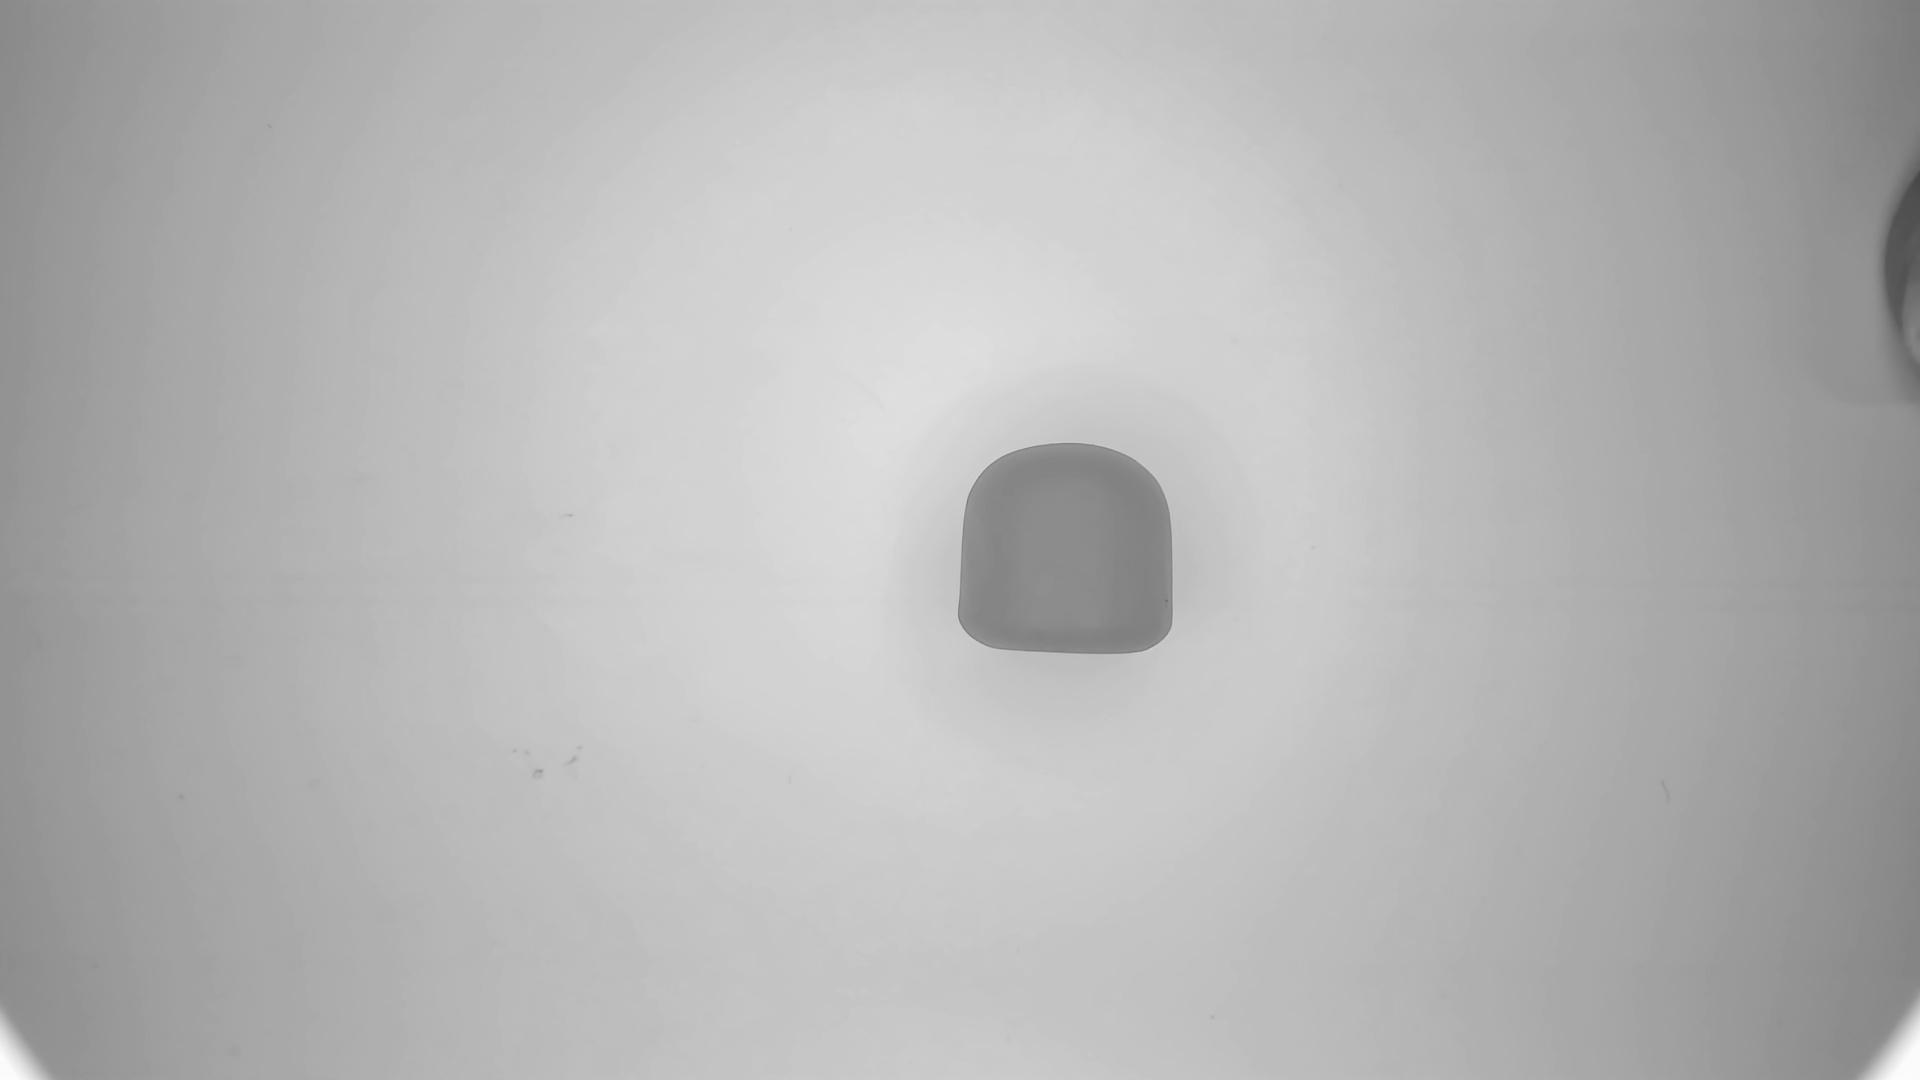normal: (956, 443, 1178, 658)
